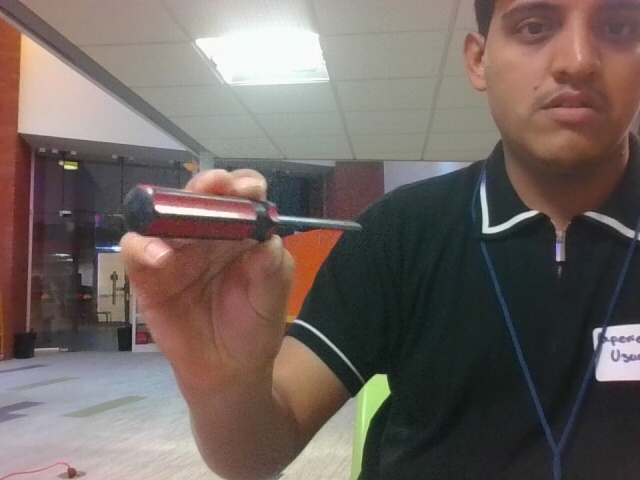destornillador: (122, 184, 362, 243)
